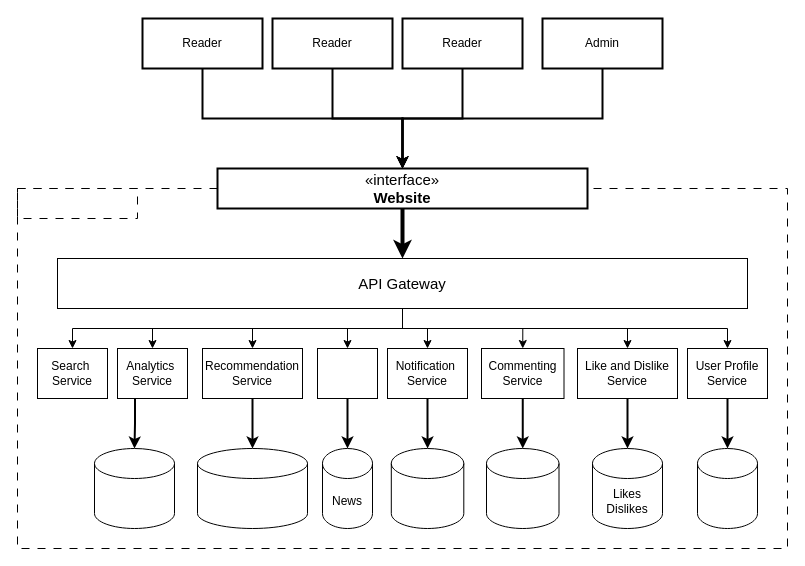
Some shapes in this 805 by 566 pixel diagram are drawn without their labels. Each missing label, with the centre of its shape:
"Comments" belongs at pixel 522 488.
"Daily Digest" belongs at pixel 77 203.
"ETL Service" belongs at pixel 347 373.
"Notifications" belongs at pixel 427 488.
"Recommendations" belongs at pixel 252 488.
"Transactions" belongs at pixel 134 488.
"Users" belongs at pixel 727 488.
